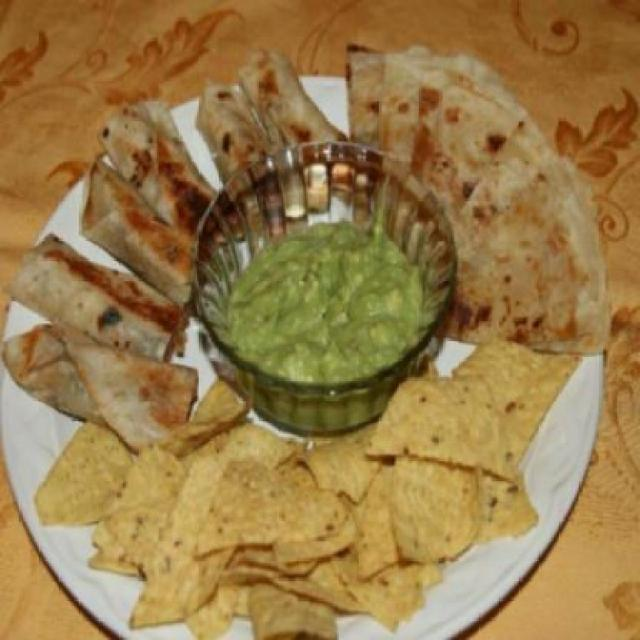chicken quesadilla: (345, 48, 620, 337)
guacamole: (194, 128, 466, 441)
nachos: (31, 340, 584, 638)
spring rolls: (7, 49, 336, 433)
